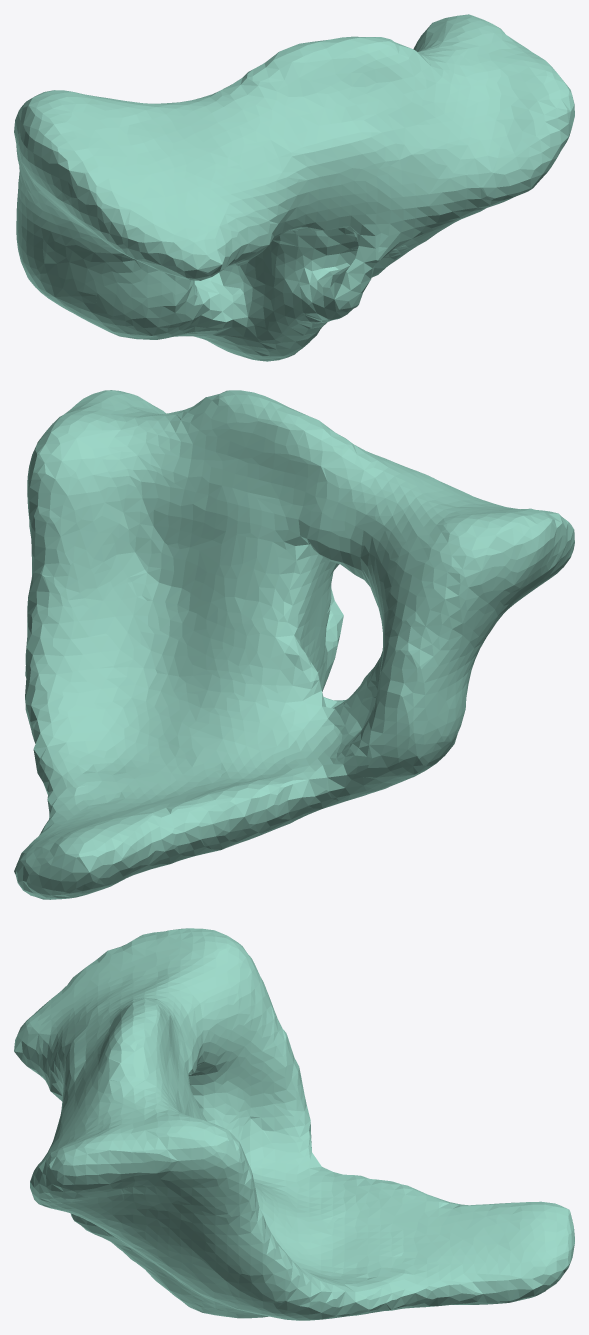
File: ours.glb
3 renders of one model, top to bottom at view 1: azimuth 30°, elevation 25°; view 2: azimuth 150°, elevation 25°; view 3: azimuth 270°, elevation 25°, orthographic. The views are drawn at different scales.
Parts seen in each view (by area): view 1: world; view 2: world; view 3: world.
Part boxes in pixels (x1,y1,x2,y2): world: (14, 14, 574, 361); world: (14, 390, 574, 899); world: (14, 928, 574, 1320).
Size of the model in its own units: 0.6648 by 0.4511 by 0.7461.
